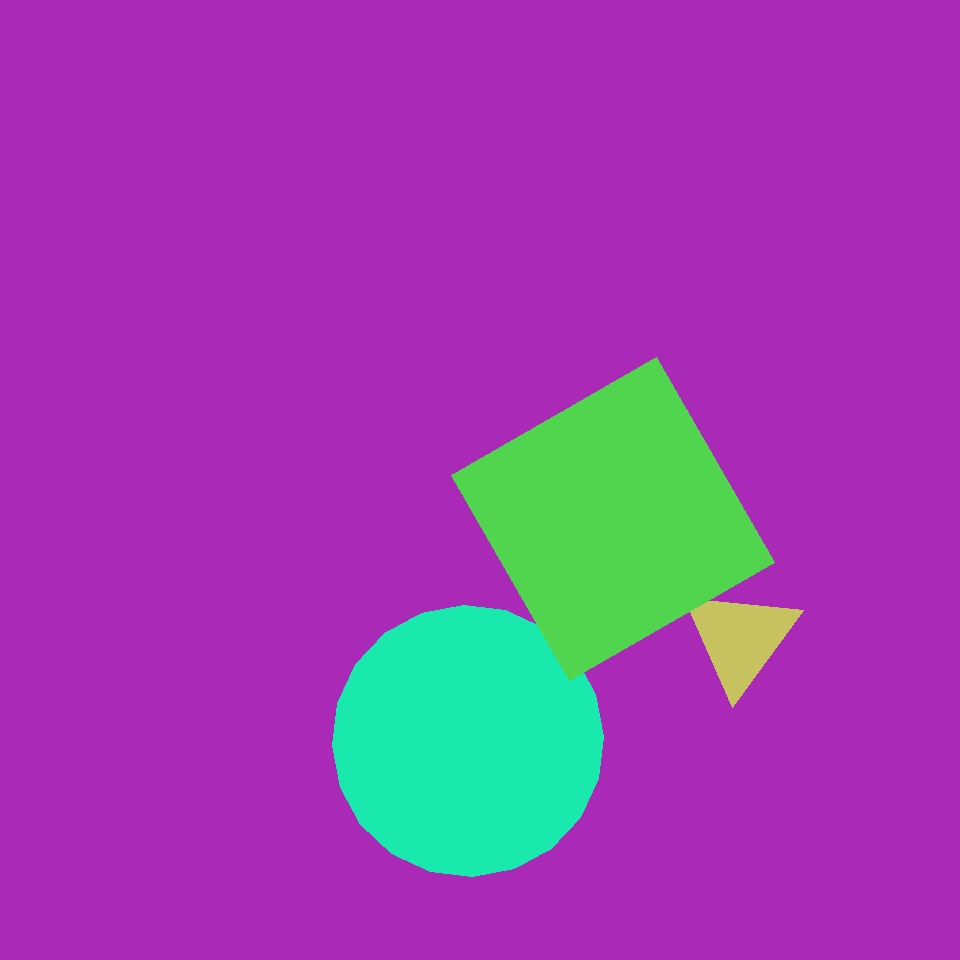circle: (680, 584, 800, 694)
square: (452, 358, 774, 680)
triangle: (34, 471, 366, 804), (332, 606, 604, 876), (449, 98, 653, 301), (41, 633, 228, 819)
